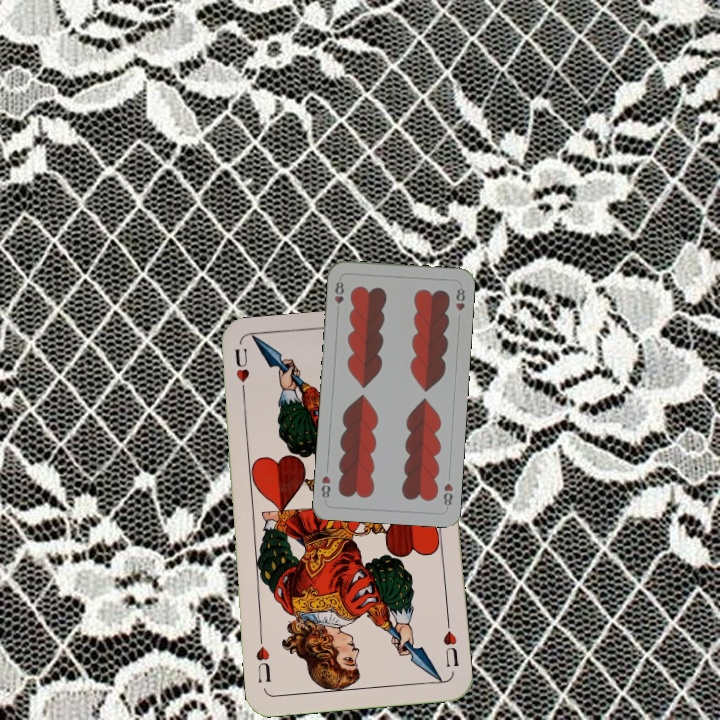H8: (330, 275, 346, 306), (440, 479, 455, 511)
HU: (230, 344, 252, 402), (439, 616, 461, 670)
